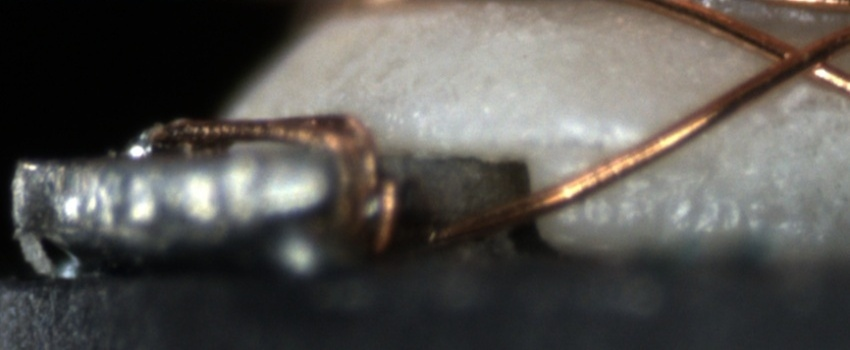CL: (755, 28, 844, 89)
DL: (519, 110, 679, 161)
TE: (144, 106, 409, 251)
